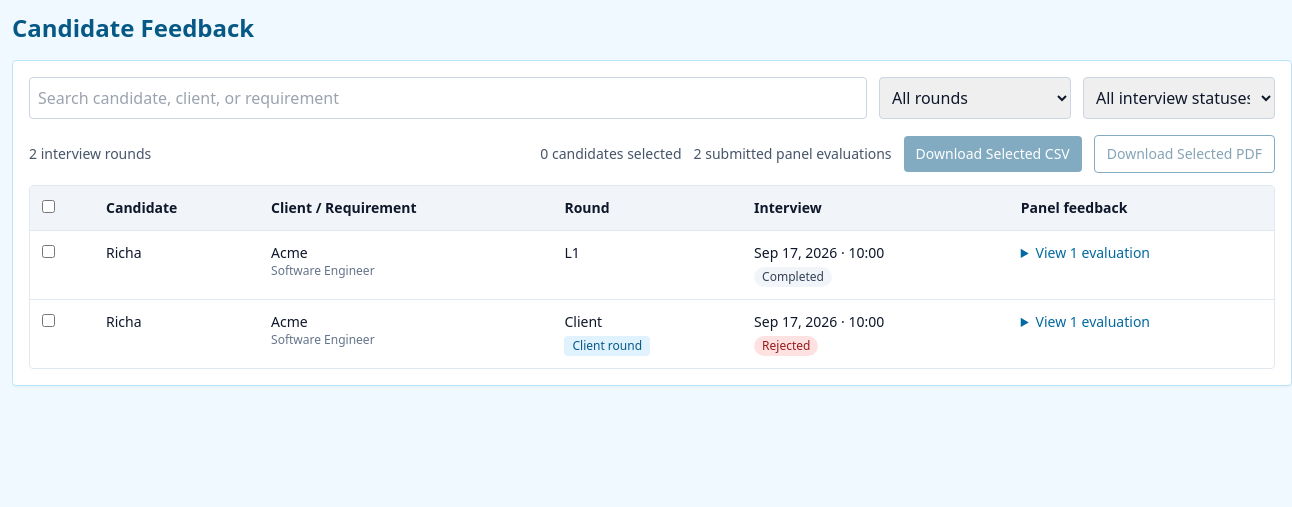
FeedbackOverviewPage › shows submitted panel feedback across rounds, including rejected interviews
Expected: the text "Richa" is shown 2 times, [94,230,259,300]; [94,300,259,368]
Expected: the text "Client round" is shown, [564,336,650,356]
Click the heading "View 1 evaluation" in the row of "L1": (1093, 252) [1036,243,1150,262]
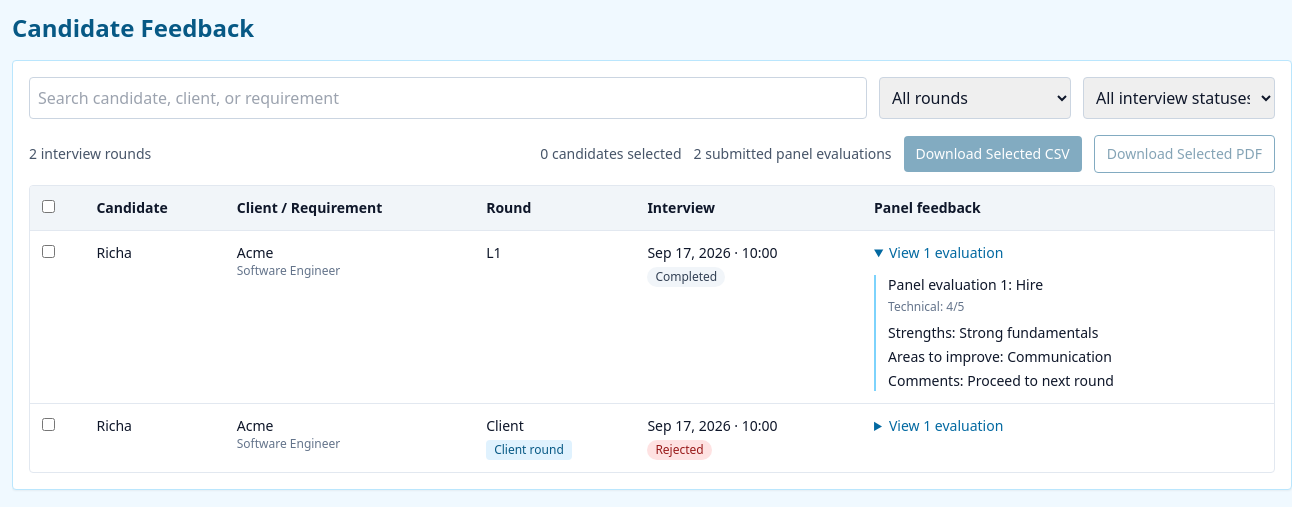
Result: the text "Panel evaluation 1: Hire" is shown at [888,275,1043,294]
Result: the text "Proceed to next round" is shown at [967,371,1114,390]
Select "Client" in the dropdown named "Filter by round": (975, 98) [879,77,1071,119]
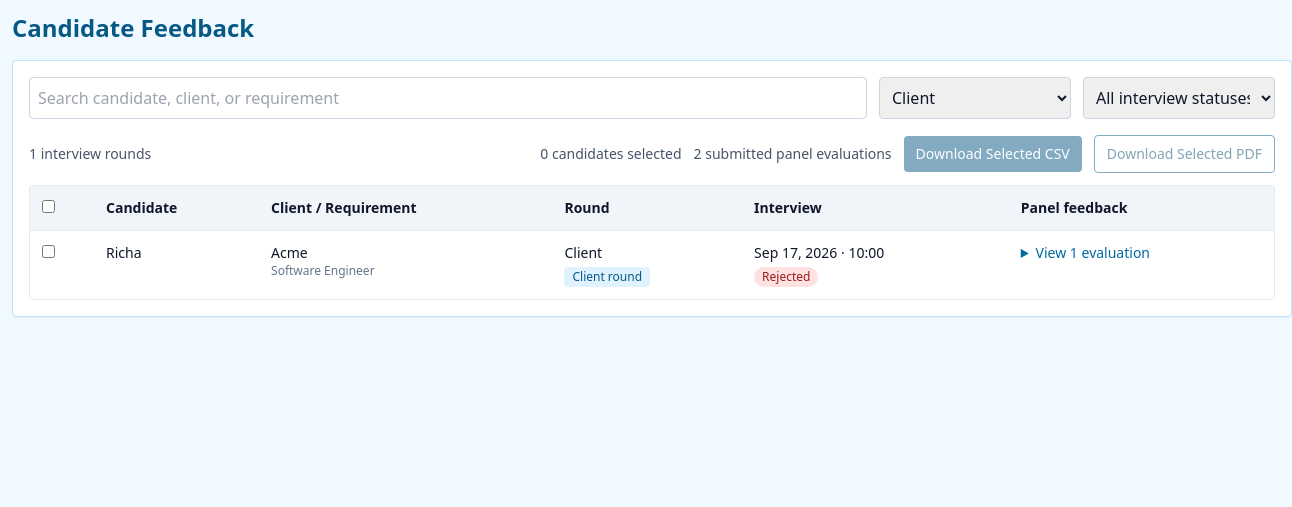
Expected: the number of rows is 2, [30,186,1274,230]; [30,230,1274,299]
Result: the text "Richa" is shown once at [94,230,259,299]
